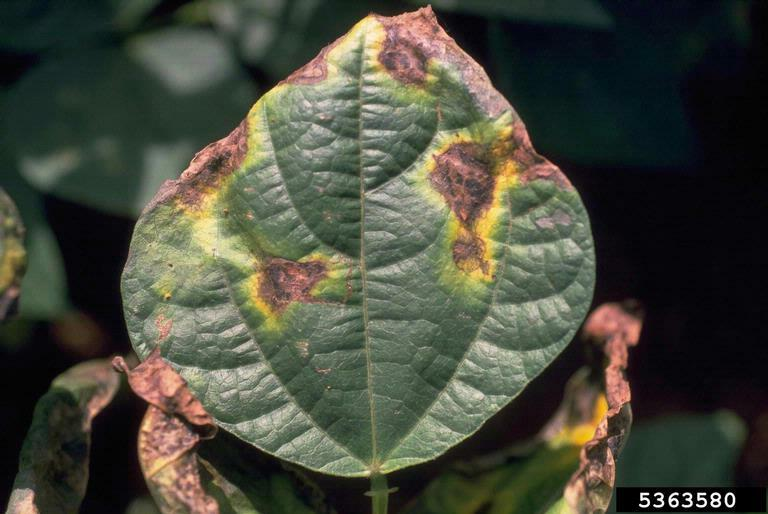StringBeans_BacterialBlight: (120, 12, 594, 476)
